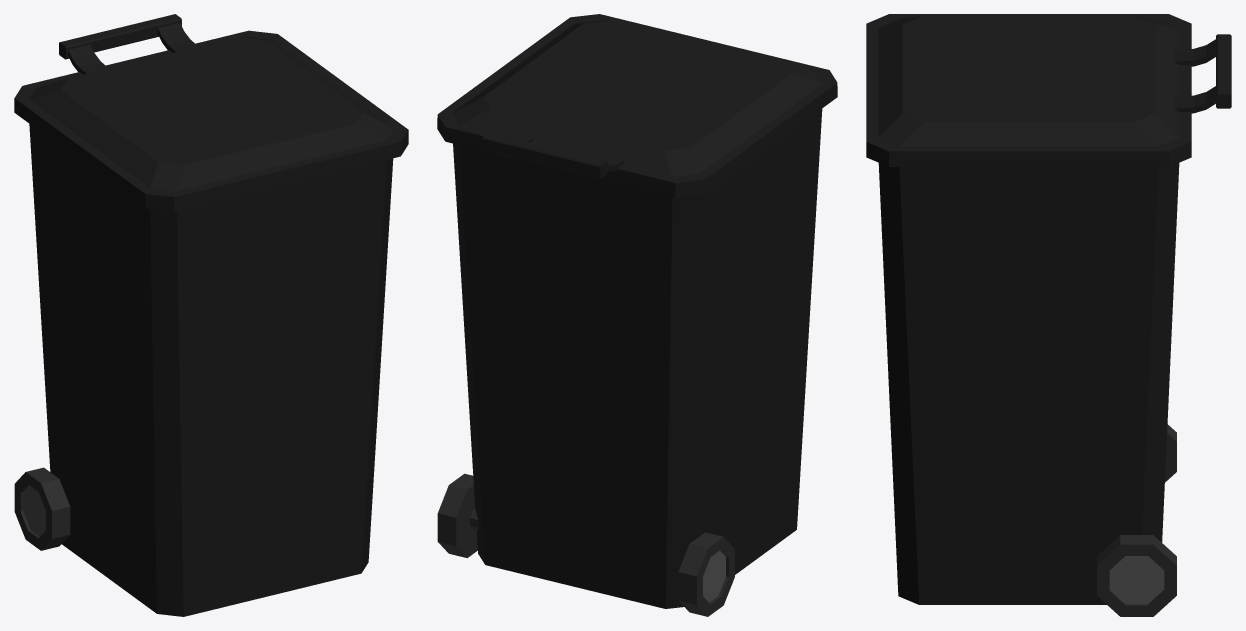
Rendered from SM_Props_Trash_05.glb.
The picture shows the model from 3 angles, left to right: view 1: azimuth 30°, elevation 25°; view 2: azimuth 150°, elevation 25°; view 3: azimuth 270°, elevation 25°; orthographic projection. The views are drawn at different scales.
Parts seen in each view (by area): view 1: SM_Props_Trash_05; view 2: SM_Props_Trash_05; view 3: SM_Props_Trash_05.
Boxes of the visible parts, box(x1,y1,x2,y2) form: SM_Props_Trash_05: box(14, 14, 408, 616); SM_Props_Trash_05: box(437, 14, 837, 616); SM_Props_Trash_05: box(866, 14, 1231, 616).
Bounding box in the file's own units: 0.7173 × 1.18 × 0.8053.
Materials: 1 (1 with a texture image).
